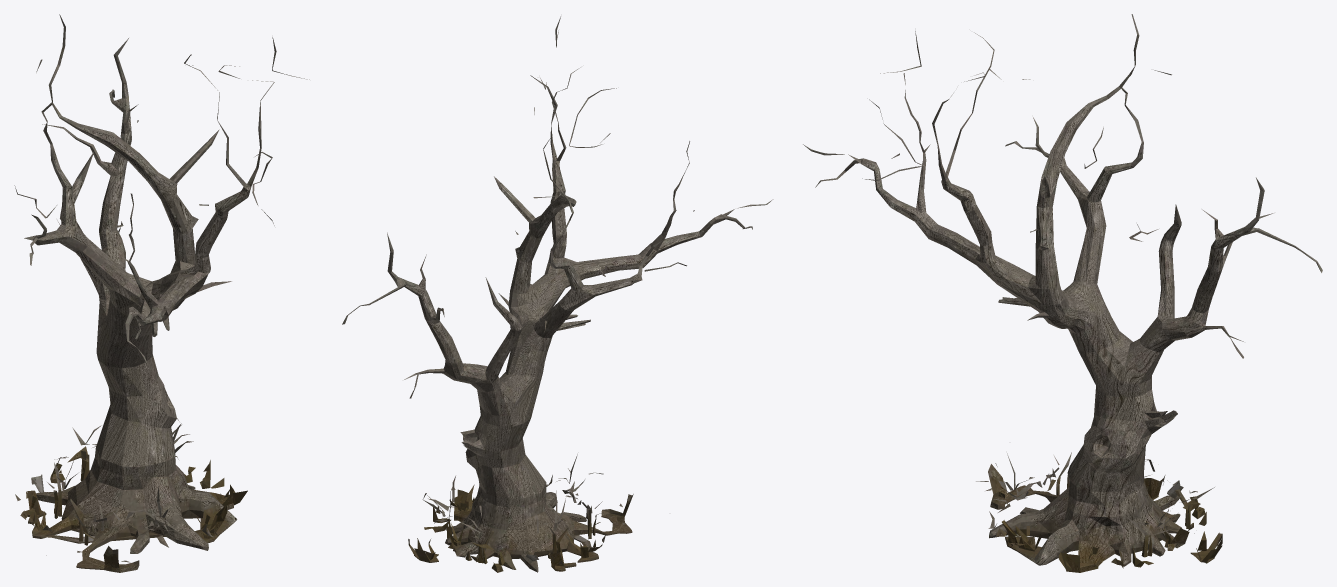
The model's file is tree_dead_LOD0.glb.
The picture shows the model from 3 angles, left to right: view 1: azimuth 30°, elevation 25°; view 2: azimuth 150°, elevation 25°; view 3: azimuth 270°, elevation 25°; orthographic projection. The views are drawn at different scales.
Visible parts, largest first — view 1: tree_dead_LOD0; view 2: tree_dead_LOD0; view 3: tree_dead_LOD0.
Part boxes in pixels (<box>): tree_dead_LOD0: <box>14,14,309,572</box>; tree_dead_LOD0: <box>342,16,773,572</box>; tree_dead_LOD0: <box>803,14,1322,572</box>.
Bounding box in the file's own units: 0.4772 × 0.9993 × 0.8937.
1 material, 1 textured.
